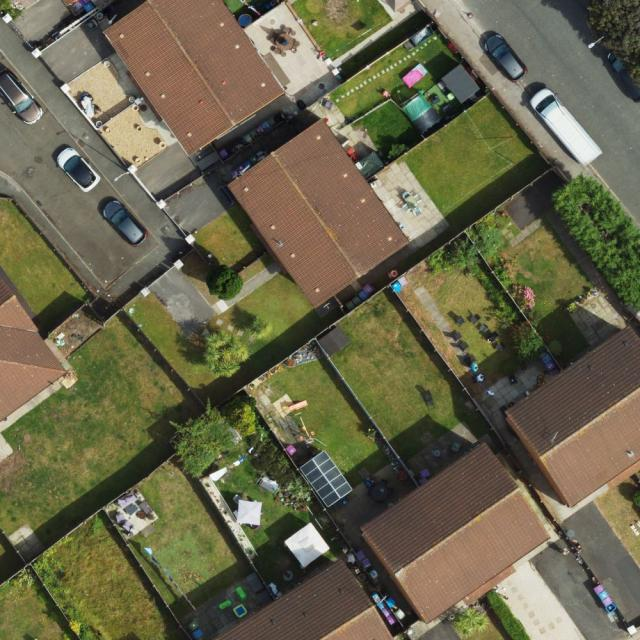roof: (229, 118, 410, 310), (362, 442, 550, 623), (102, 0, 286, 158), (508, 326, 640, 506), (217, 559, 396, 640), (0, 279, 67, 425)
